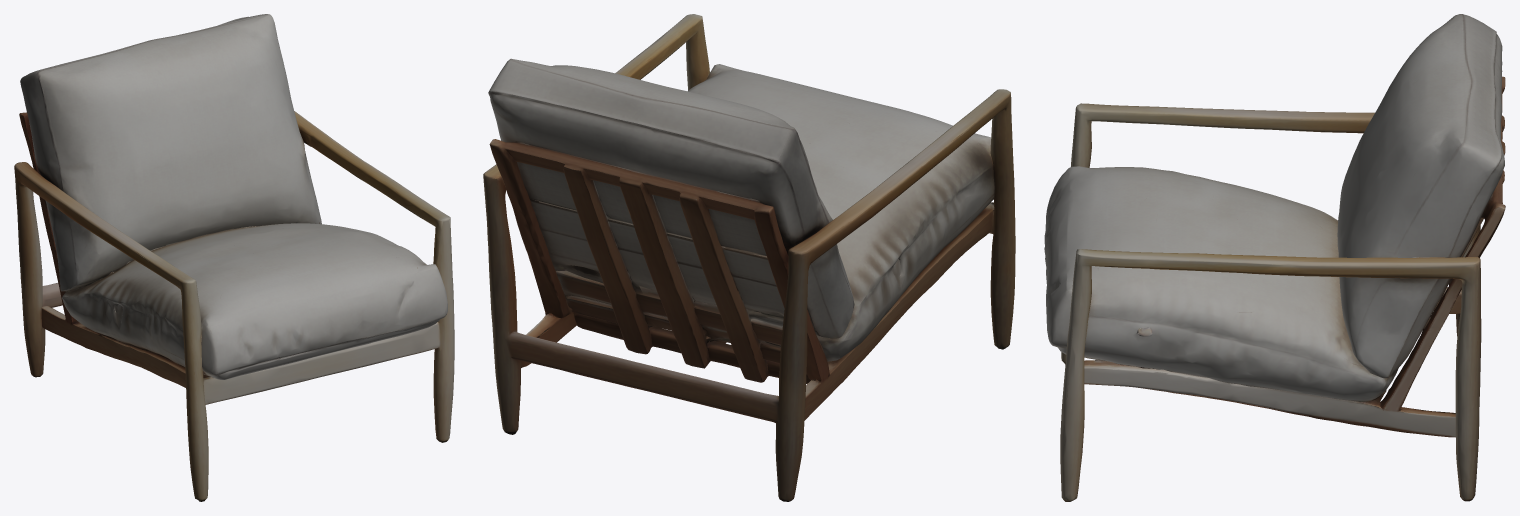
The model's file is chair_glb.glb.
3 renders of one model, left to right at view 1: azimuth 30°, elevation 25°; view 2: azimuth 150°, elevation 25°; view 3: azimuth 270°, elevation 25°, orthographic. The views are drawn at different scales.
Parts seen in each view (by area): view 1: world_0; view 2: world_0; view 3: world_0.
Boxes of the visible parts, x1=… form: world_0: x1=14, y1=14, x2=454, y2=501; world_0: x1=483, y1=14, x2=1015, y2=501; world_0: x1=1044, y1=14, x2=1505, y2=501.
Size of the model in its own units: 0.779 by 0.85 by 0.9929.
1 material, 1 textured.
